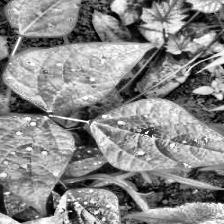Bean Rust: (2, 42, 158, 112), (92, 102, 224, 171), (0, 115, 76, 208), (2, 0, 82, 35), (59, 185, 129, 224), (0, 208, 67, 224)
